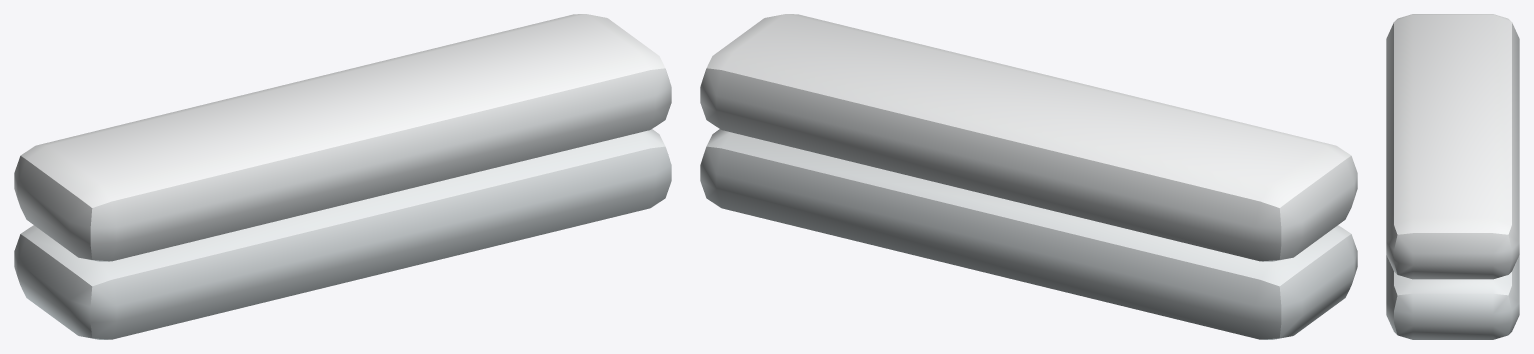
File: barrier_4x1x1.glb
3 views of the same model, side by side, from view 1: azimuth 30°, elevation 25°; view 2: azimuth 150°, elevation 25°; view 3: azimuth 270°, elevation 25° (orthographic). The views are drawn at different scales.
Visible parts, largest first — view 1: barrier_4x1x1; view 2: barrier_4x1x1; view 3: barrier_4x1x1.
Boxes of the visible parts, x1,y1,x2,y2 form: barrier_4x1x1: [14, 14, 671, 339]; barrier_4x1x1: [700, 14, 1357, 339]; barrier_4x1x1: [1386, 14, 1519, 339].
Bounding box in the file's own units: 4 × 1 × 1.
Materials: 1 (1 with a texture image).
